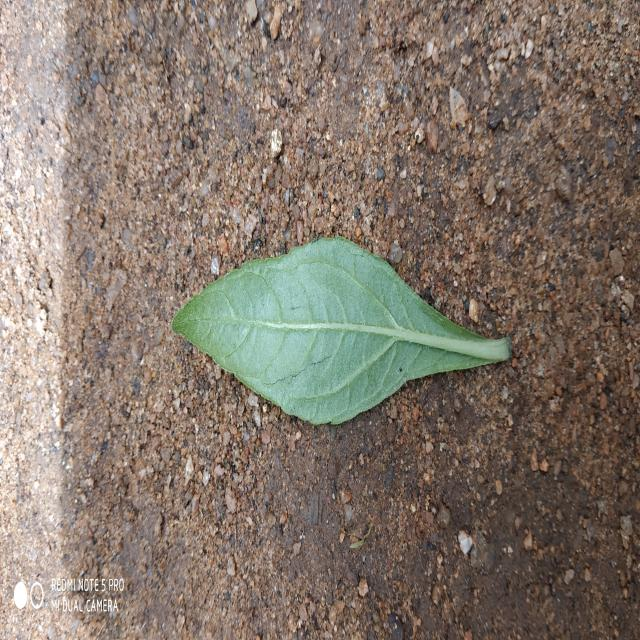bringaraja: (172, 238, 511, 425)
